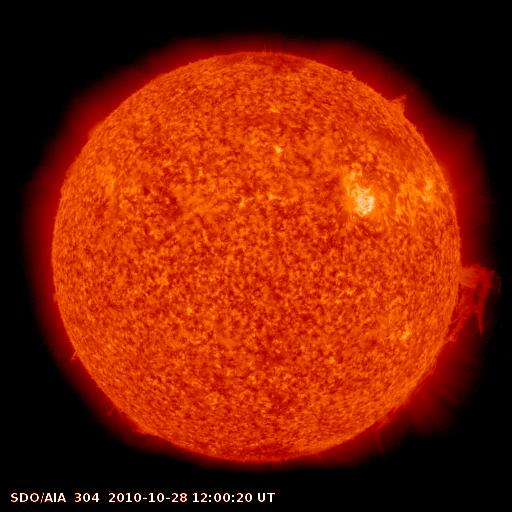prominence: (435, 260, 508, 354), (382, 361, 438, 425), (101, 397, 169, 445), (376, 68, 421, 131), (58, 336, 88, 373), (330, 59, 364, 85)
